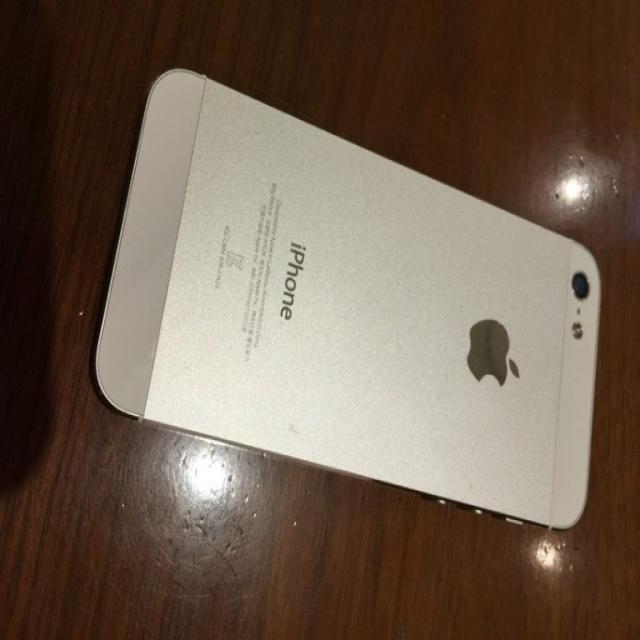phone: (89, 69, 606, 536)
